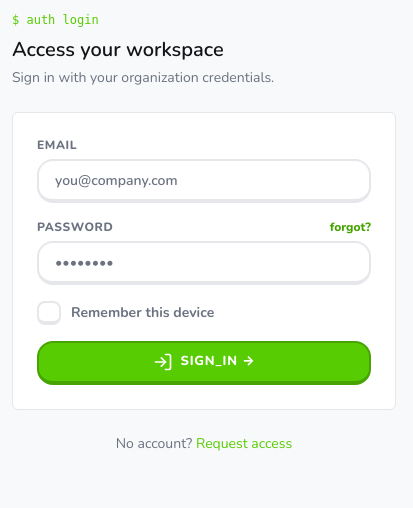
Test: LoginForm component › displays validation errors when submitting empty form
The image size is (413, 508).
Click the button "sign_in →": click(204, 363) x1=37 y1=341 x2=371 y2=385
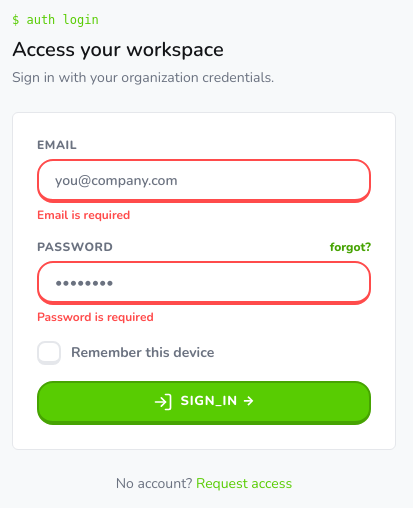
Check: the text "Email is required" is shown, box x1=37 y1=207 x2=130 y2=223
Check: the text "Password is required" is shown, box x1=37 y1=309 x2=154 y2=325
